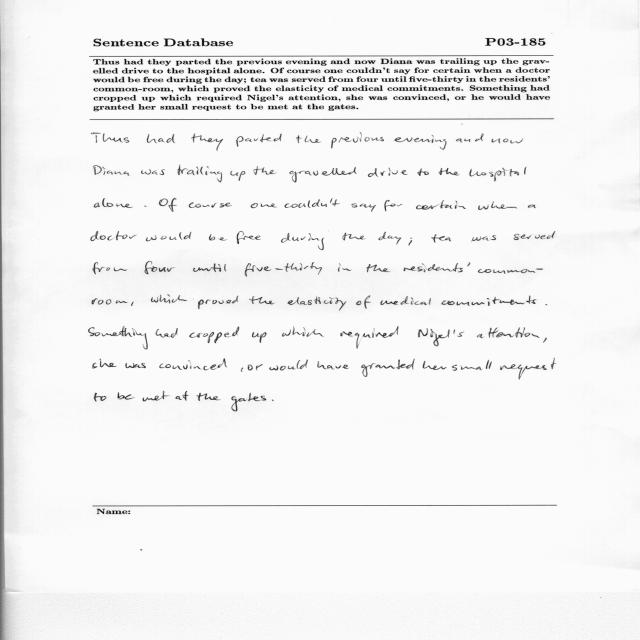word: (89, 327, 148, 350), (340, 327, 399, 349), (500, 358, 556, 380), (244, 262, 322, 277), (289, 167, 357, 183), (361, 359, 415, 377), (442, 296, 537, 306), (288, 296, 347, 311), (470, 167, 527, 182), (190, 327, 240, 344), (331, 133, 384, 149), (418, 329, 464, 347), (159, 359, 227, 371), (394, 135, 447, 150), (178, 165, 222, 182), (281, 233, 324, 250), (477, 327, 539, 338), (404, 262, 471, 272), (231, 393, 266, 412), (236, 134, 282, 147), (285, 198, 340, 208), (191, 134, 223, 151), (198, 296, 238, 309), (416, 200, 466, 210), (282, 326, 324, 337), (91, 231, 137, 241), (380, 296, 431, 305), (452, 360, 492, 371), (269, 360, 308, 371), (92, 132, 130, 143), (93, 262, 127, 274), (146, 232, 191, 241), (94, 165, 130, 176), (94, 198, 133, 208), (145, 262, 175, 275), (514, 231, 556, 240), (368, 168, 408, 177), (478, 201, 517, 210), (478, 269, 543, 274), (151, 295, 187, 304), (237, 231, 261, 244), (142, 391, 170, 402), (317, 361, 349, 370), (379, 232, 401, 245), (193, 264, 227, 272), (189, 202, 232, 208), (147, 134, 175, 143), (159, 198, 177, 212), (92, 298, 127, 305), (456, 134, 483, 143), (93, 359, 117, 369), (352, 203, 377, 212), (156, 328, 178, 338), (423, 361, 447, 370), (249, 296, 275, 304), (254, 166, 277, 175), (296, 135, 321, 143), (385, 200, 403, 211), (356, 295, 370, 309), (366, 264, 390, 272), (197, 393, 221, 401), (431, 234, 452, 243), (343, 233, 366, 241), (472, 235, 497, 242), (492, 139, 523, 144), (252, 332, 266, 343), (231, 171, 246, 181), (439, 168, 460, 175), (141, 169, 165, 175), (117, 392, 135, 400), (175, 391, 189, 401), (251, 203, 277, 208), (338, 263, 352, 272), (209, 234, 227, 240), (94, 393, 106, 402), (125, 363, 146, 368), (417, 168, 429, 176), (256, 365, 262, 371), (409, 238, 413, 246), (248, 365, 253, 371), (528, 205, 536, 208), (543, 338, 547, 343), (131, 302, 134, 306), (241, 367, 243, 372), (546, 304, 548, 306), (144, 206, 147, 207), (272, 400, 274, 401)
